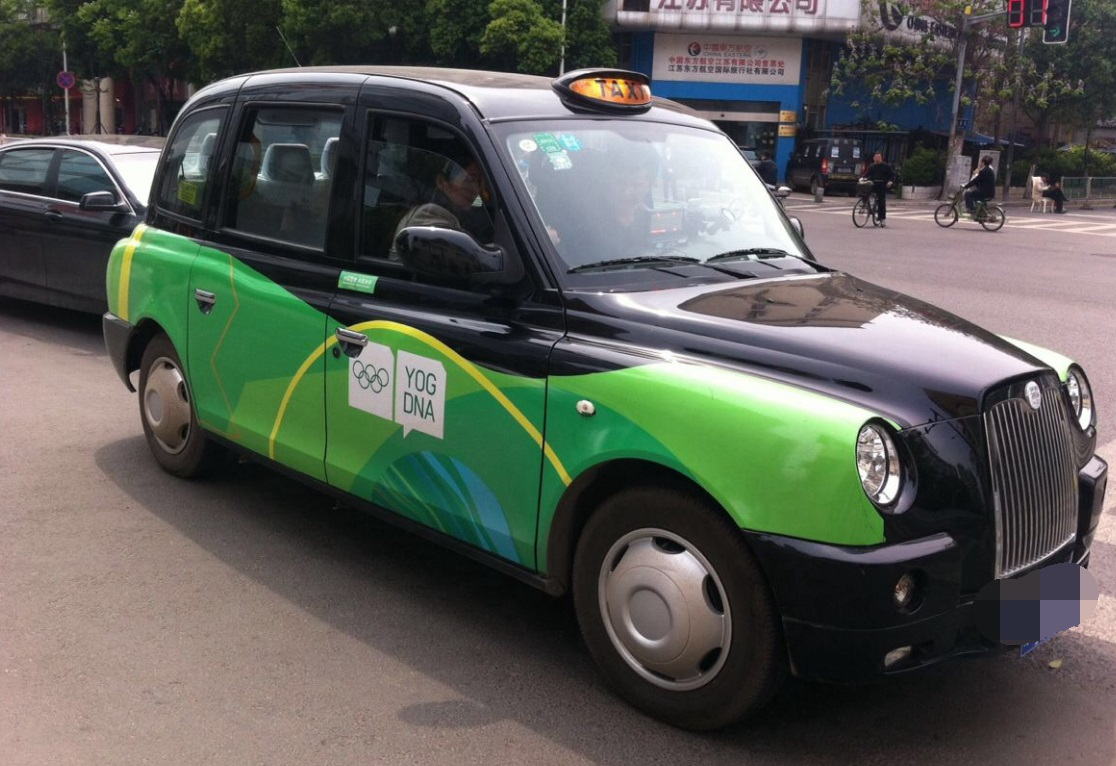taxi: (100, 63, 1112, 733)
